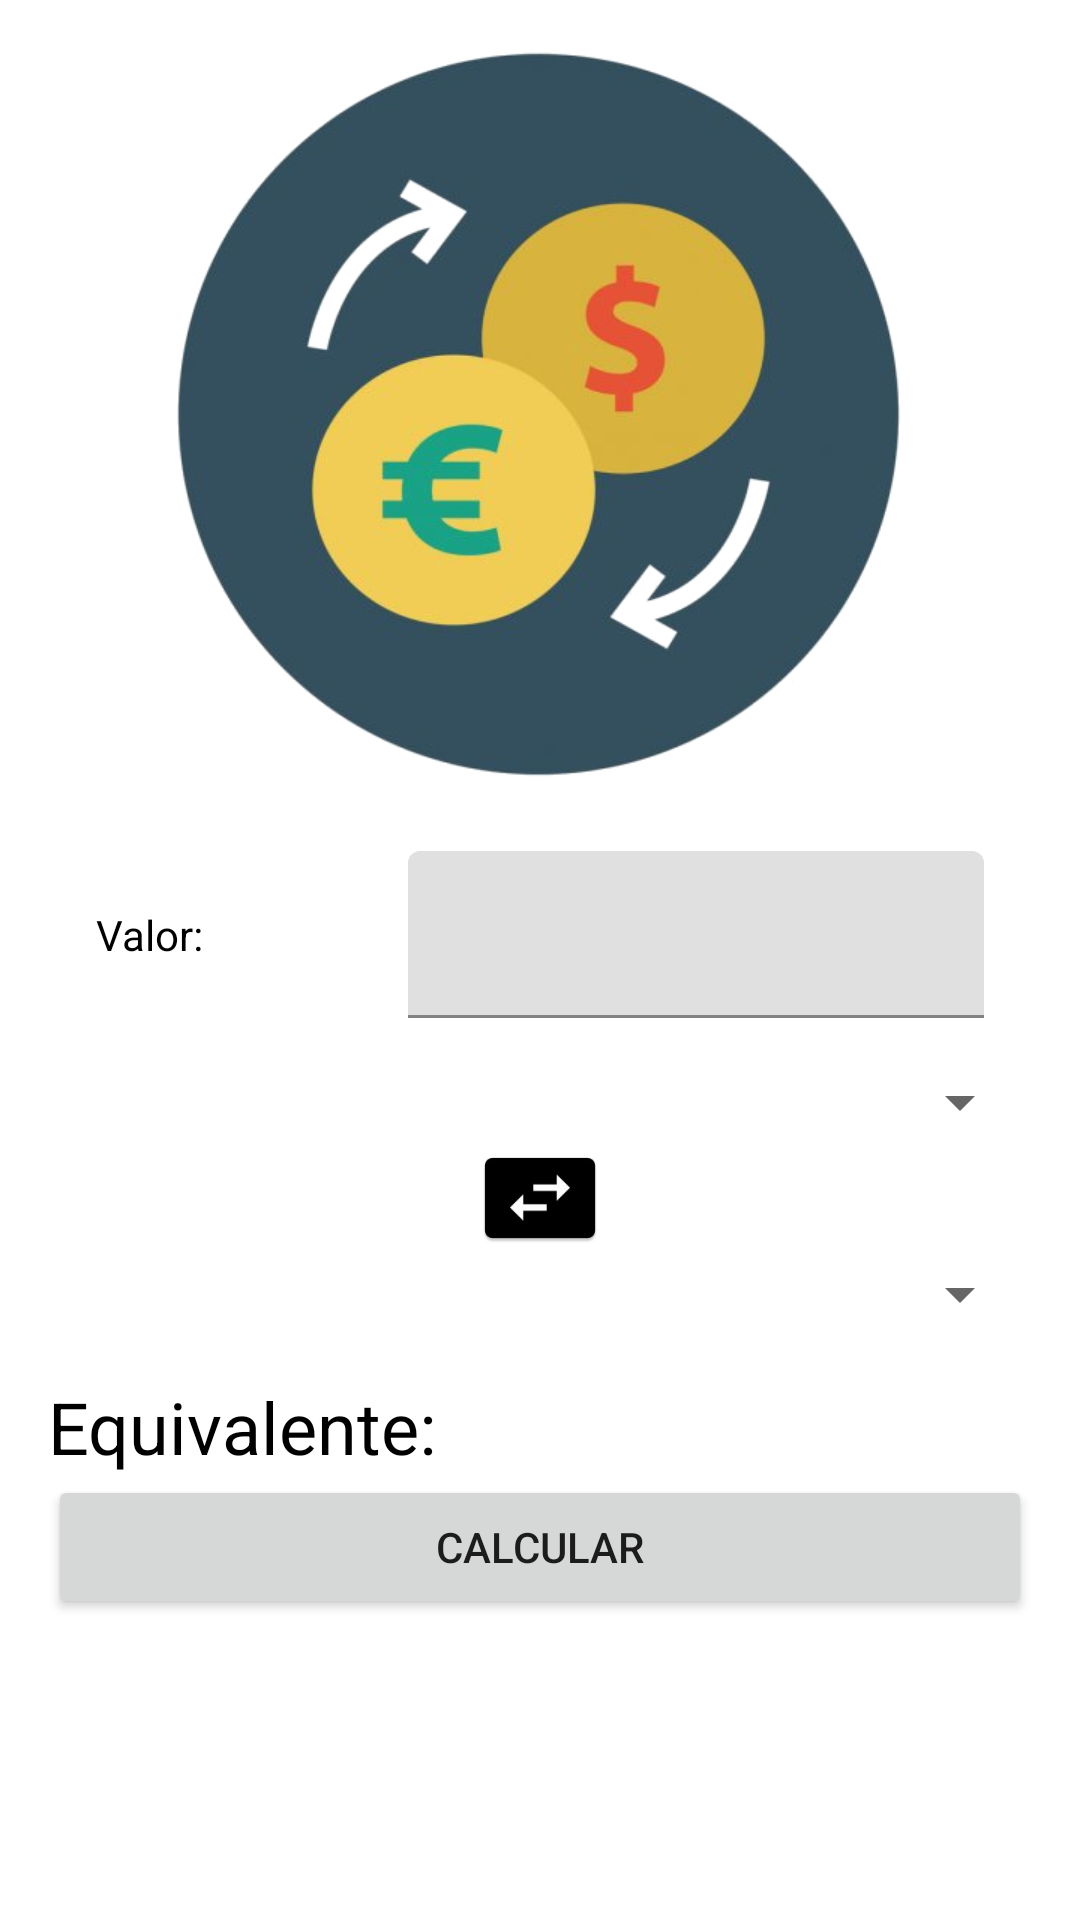

Named icons in this screenshot (1080 x 1920) and their centers, [x,y]:
swapimage: [540,1199]
